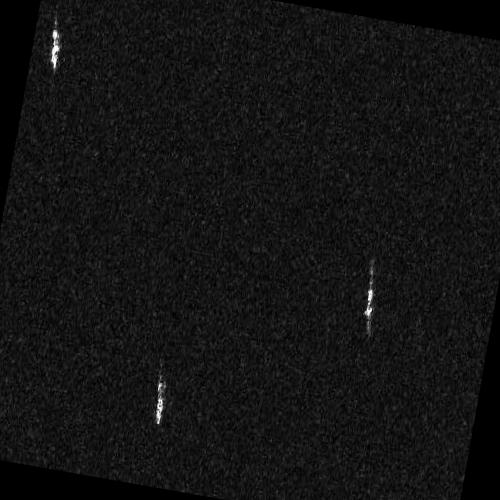ship: (363, 275, 374, 327), (49, 27, 60, 71), (155, 379, 164, 426)
